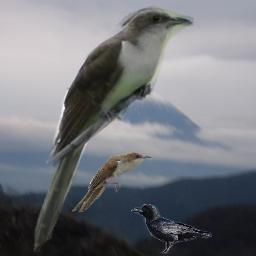Crow: (131, 204, 212, 254)
Cuckoo: (26, 5, 194, 256), (72, 152, 152, 212)
